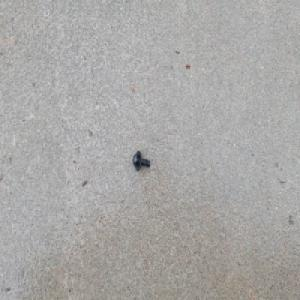BoltWasher: (132, 148, 150, 171)
